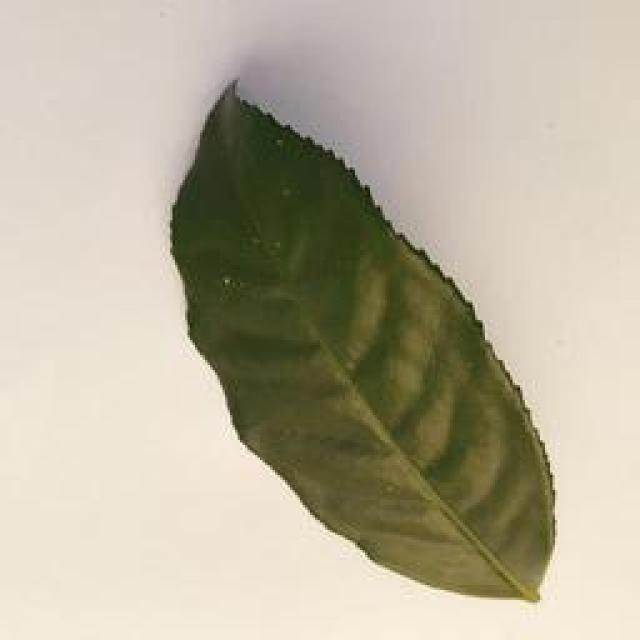Healthy: (158, 78, 591, 612)
